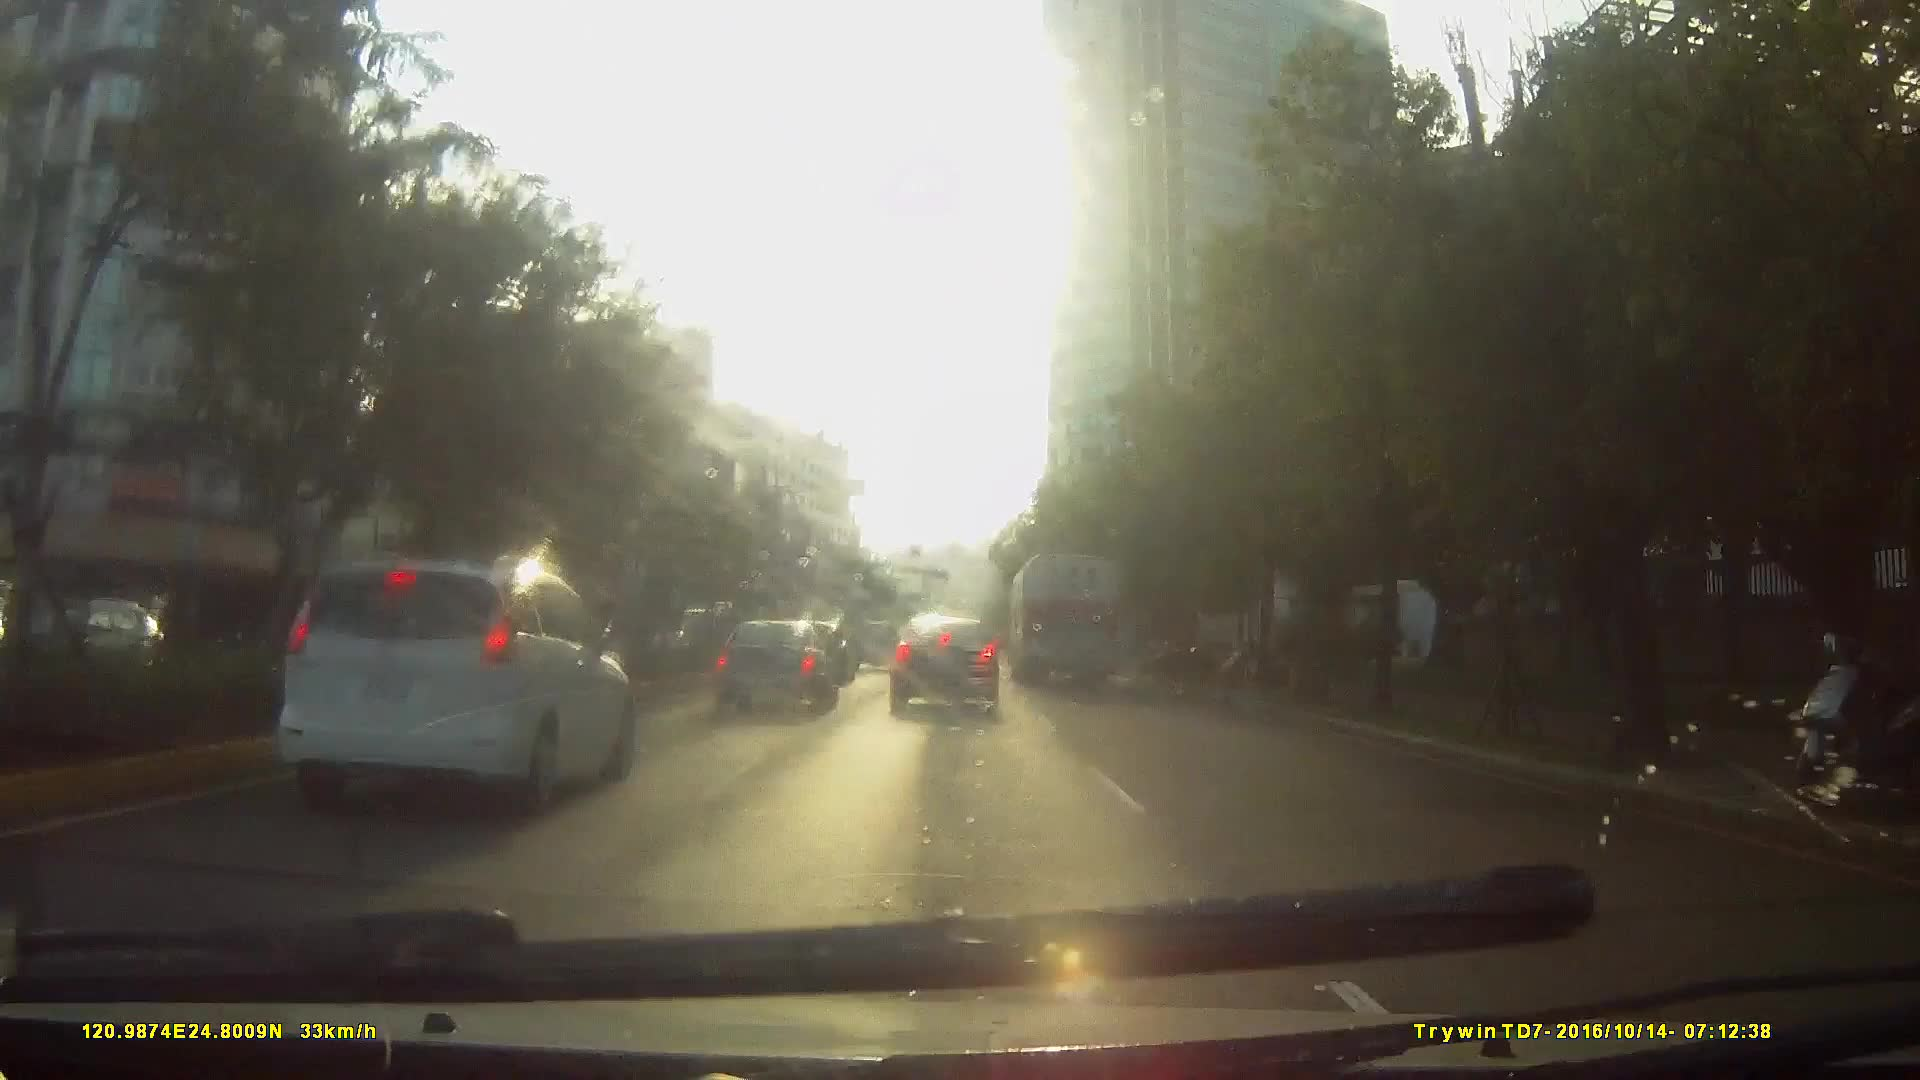vehicle: (251, 556, 684, 868), (256, 553, 645, 823), (1010, 550, 1122, 686), (709, 616, 841, 715), (890, 611, 1002, 716), (848, 618, 902, 673)
